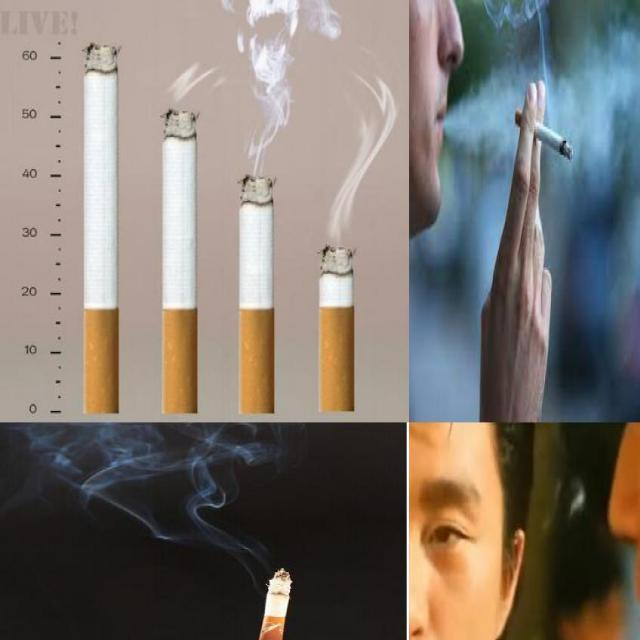cigarette: (474, 75, 580, 424), (82, 42, 120, 414), (162, 108, 198, 414), (239, 174, 276, 415), (318, 245, 354, 413), (258, 567, 292, 640)
